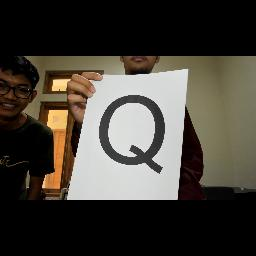q: (90, 91, 168, 175)
